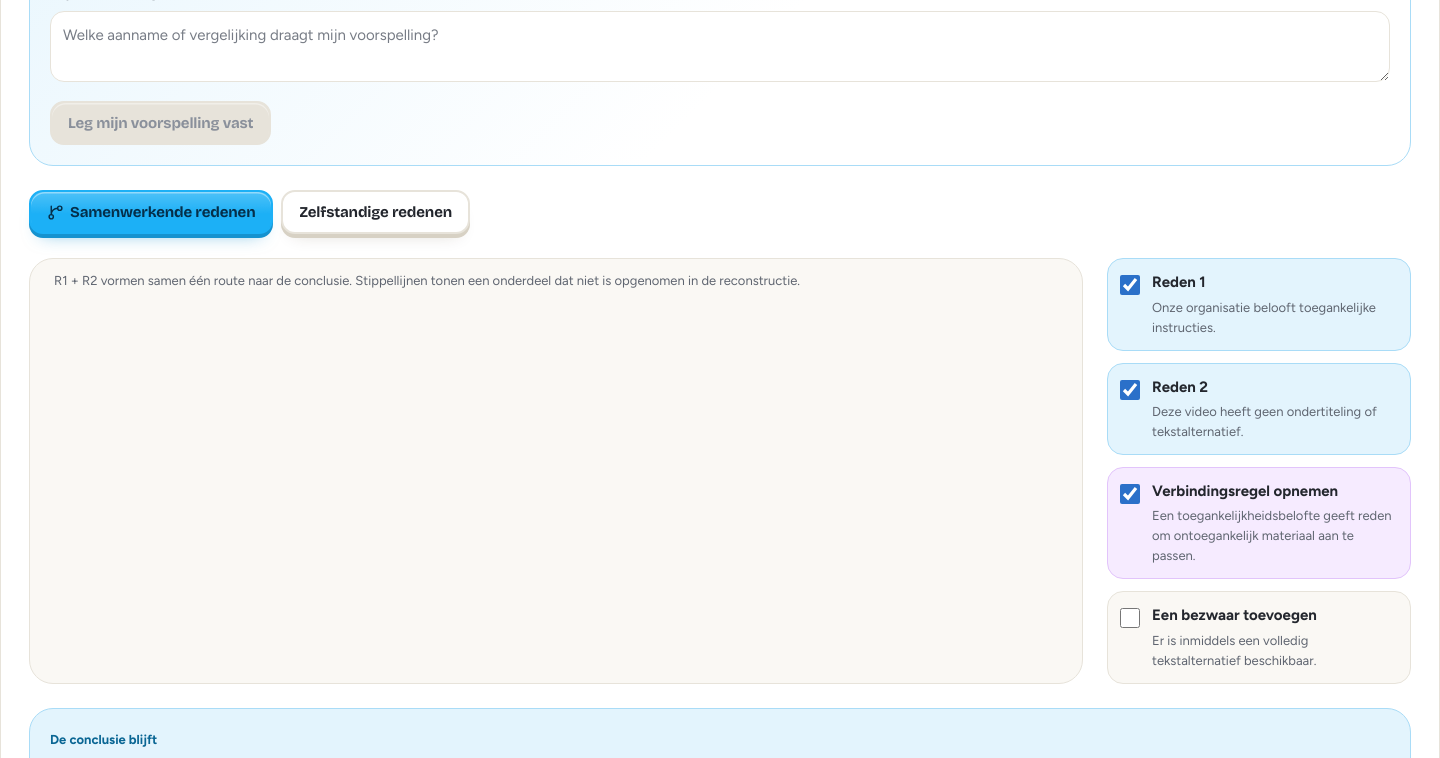
accessible argument laboratories without a canvas › keeps the structure experiment fully usable with native DOM controls
This screenshot has width=1440, height=758.
(page scrolled)
Click the checkbox labelled "Reden 2" at x=1130, y=390, box [1120,380,1140,400]
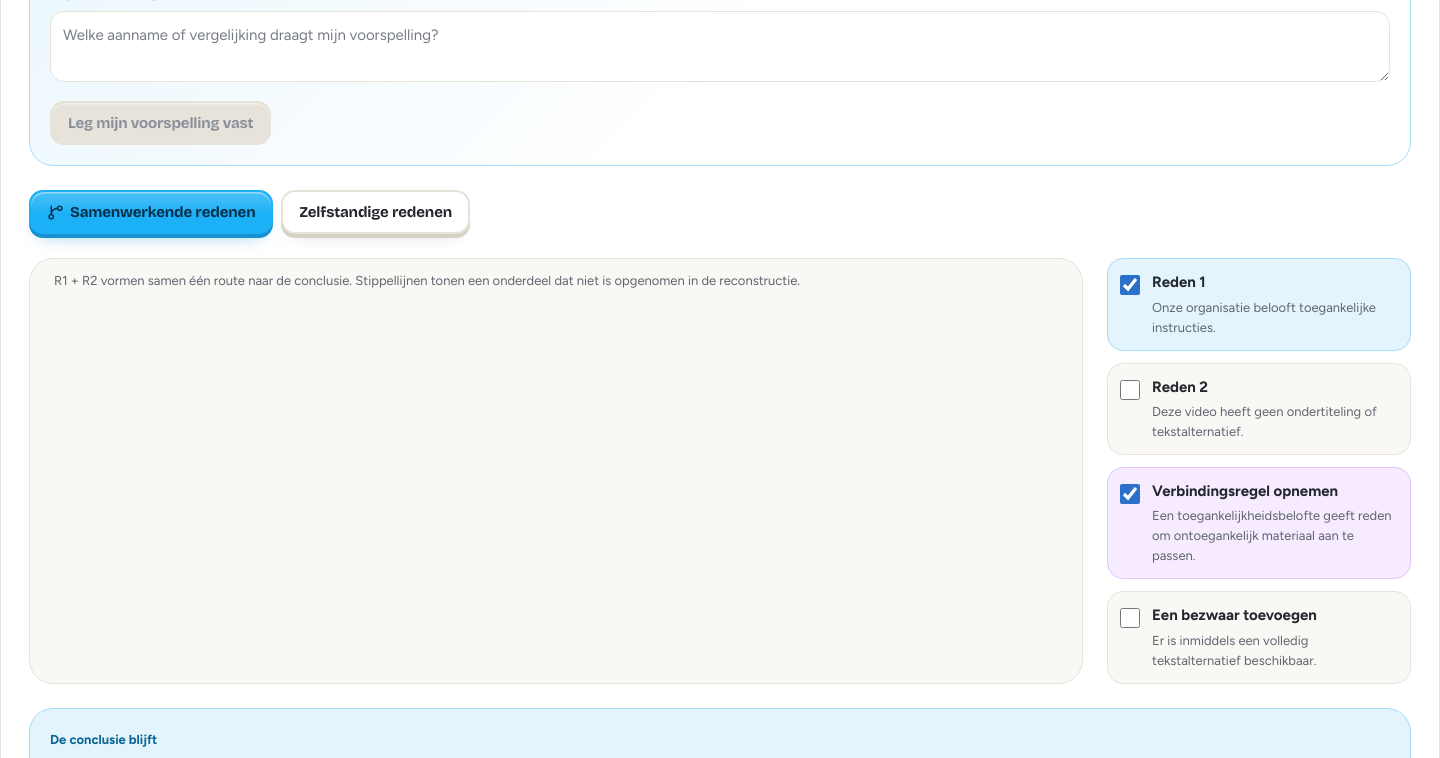
Click the button "Zelfstandige redenen" at x=376, y=212, box [282,190,470,234]
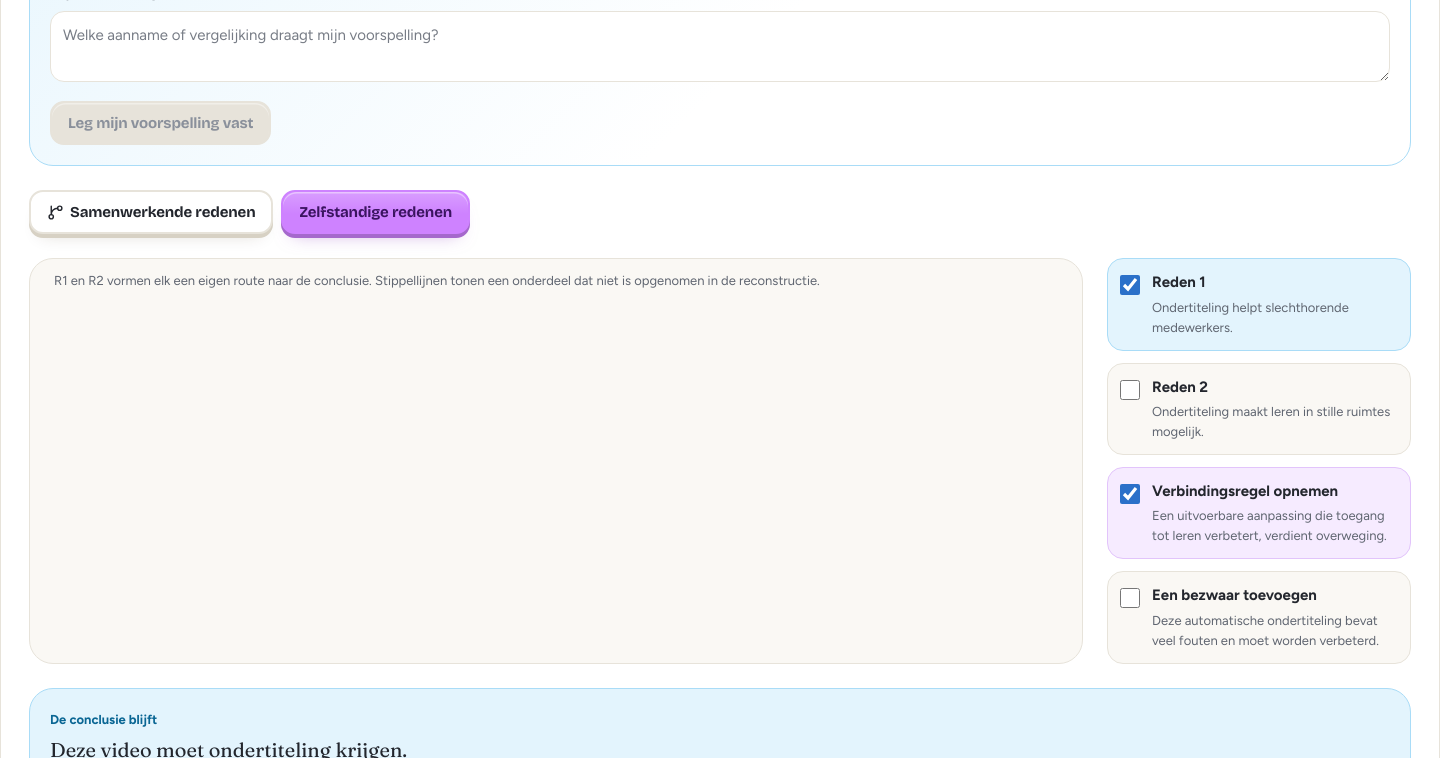
Click the checkbox labelled "Een bezwaar toevoegen" at x=1130, y=598, box [1120,588,1140,608]
(page scrolled)
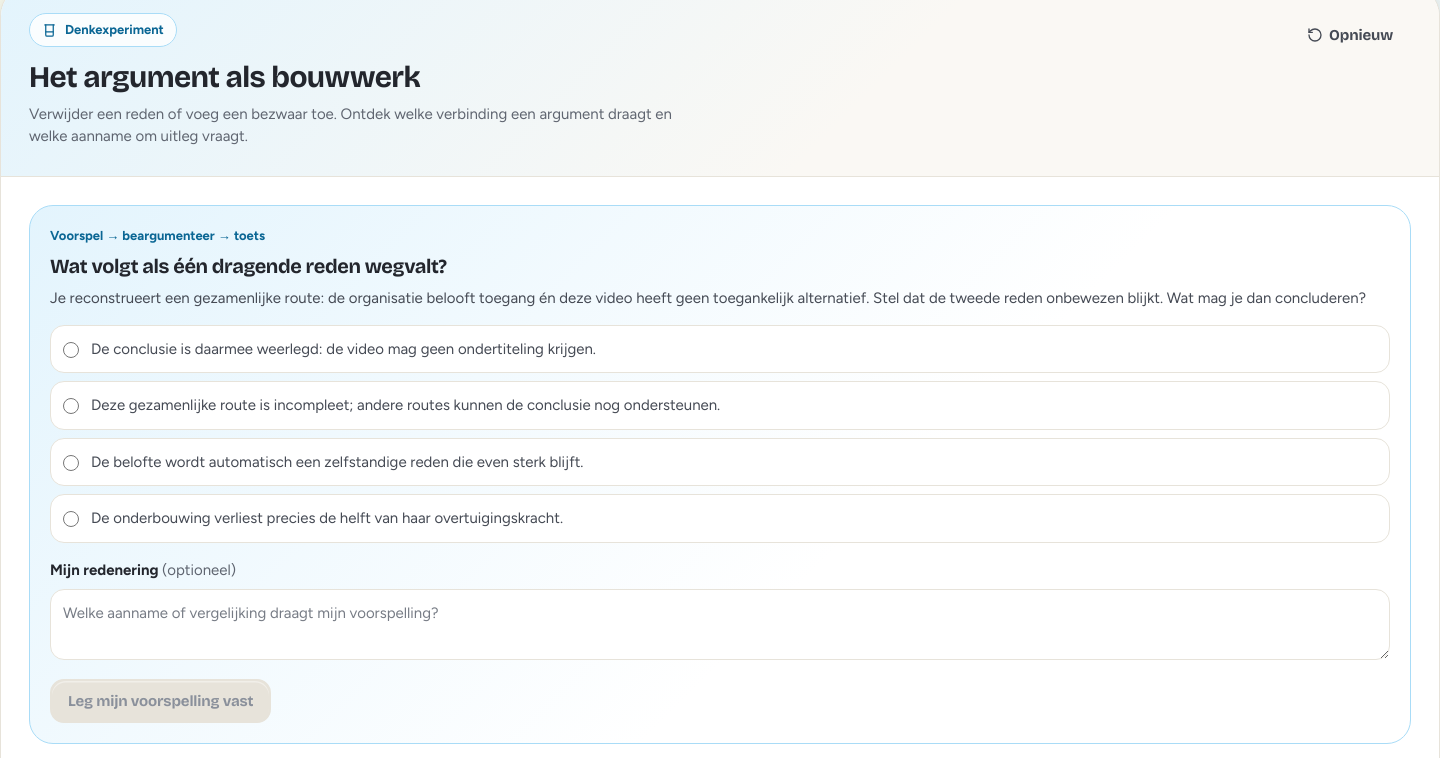
Click the button with aria-label "Herstel begininstellingen" at x=1350, y=35, box [1289,13,1411,57]
(page scrolled)
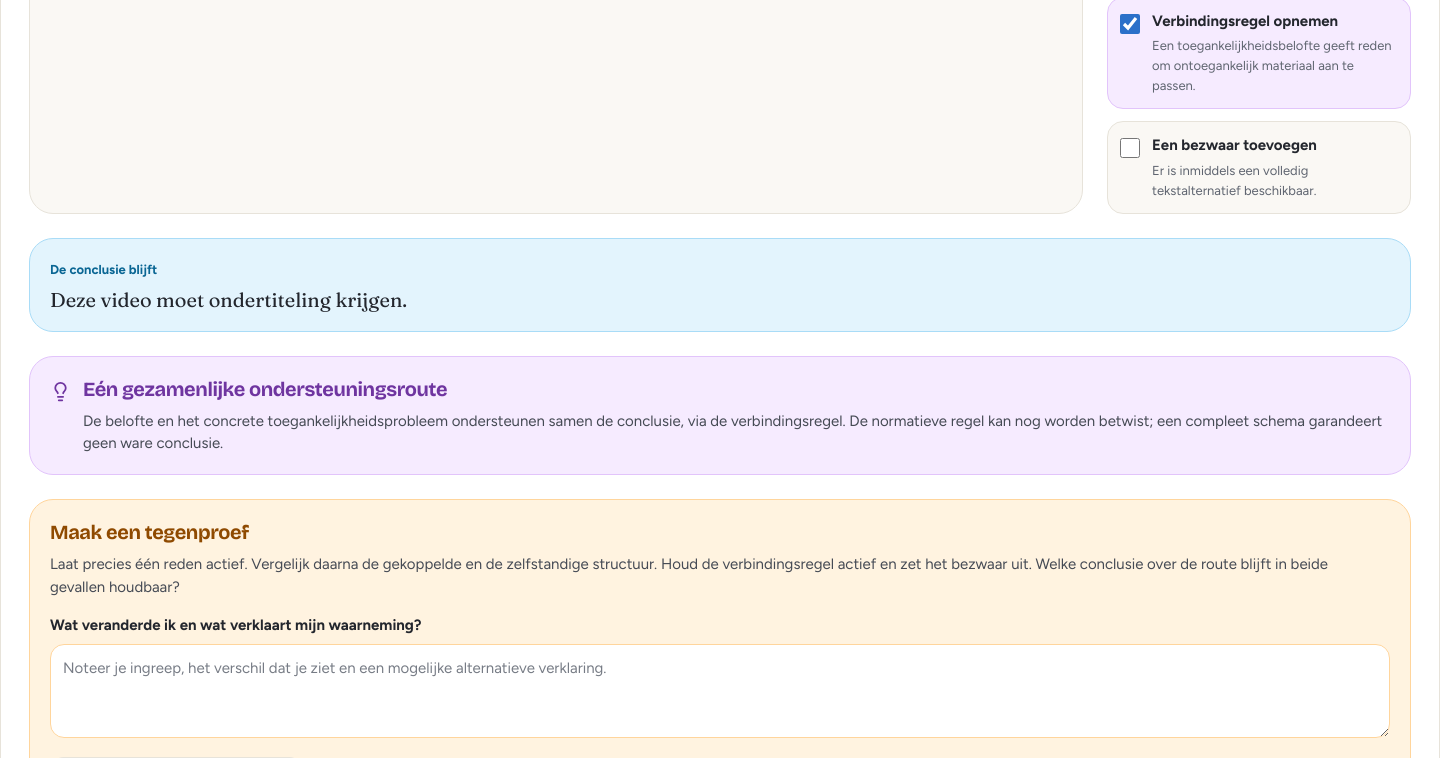
Result: the heading "Eén gezamenlijke ondersteuningsroute" is shown at [83,377,447,401]
